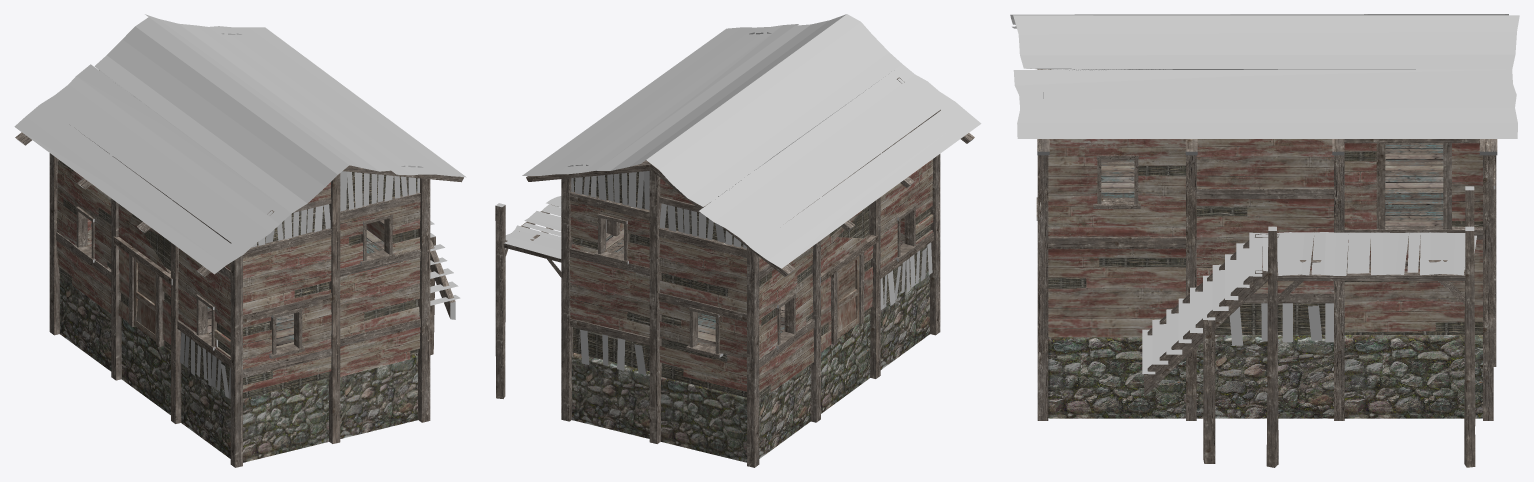
Rendered from House10_LOD2.fbx.
The picture shows the model from 3 angles, left to right: view 1: azimuth 30°, elevation 25°; view 2: azimuth 150°, elevation 25°; view 3: azimuth 270°, elevation 25°; orthographic projection. The views are drawn at different scales.
Parts seen in each view (by area): view 1: Roof, Base, Floor, Windows, Stairs, Doors; view 2: Roof, Base, Floor, Stairs, Windows, Doors; view 3: Base, Roof, Floor, Stairs, Windows.
Part boxes in pixels (x1=…): Roof: x1=14, y1=14, x2=466, y2=276; Base: x1=49, y1=33, x2=430, y2=467; Floor: x1=60, y1=274, x2=417, y2=462; Windows: x1=73, y1=206, x2=394, y2=358; Stairs: x1=430, y1=221, x2=460, y2=355; Doors: x1=134, y1=258, x2=155, y2=341; Roof: x1=522, y1=14, x2=981, y2=276; Base: x1=561, y1=32, x2=940, y2=467; Floor: x1=572, y1=271, x2=929, y2=462; Stairs: x1=495, y1=196, x2=606, y2=398; Windows: x1=594, y1=205, x2=917, y2=357; Doors: x1=837, y1=256, x2=859, y2=338; Base: x1=1037, y1=69, x2=1496, y2=420; Roof: x1=1010, y1=14, x2=1519, y2=155; Floor: x1=1048, y1=335, x2=1482, y2=418; Stairs: x1=1142, y1=186, x2=1476, y2=467; Windows: x1=1036, y1=155, x2=1495, y2=220.
Bounding box in the file's own units: 10.34 × 9.3 × 12.12.
